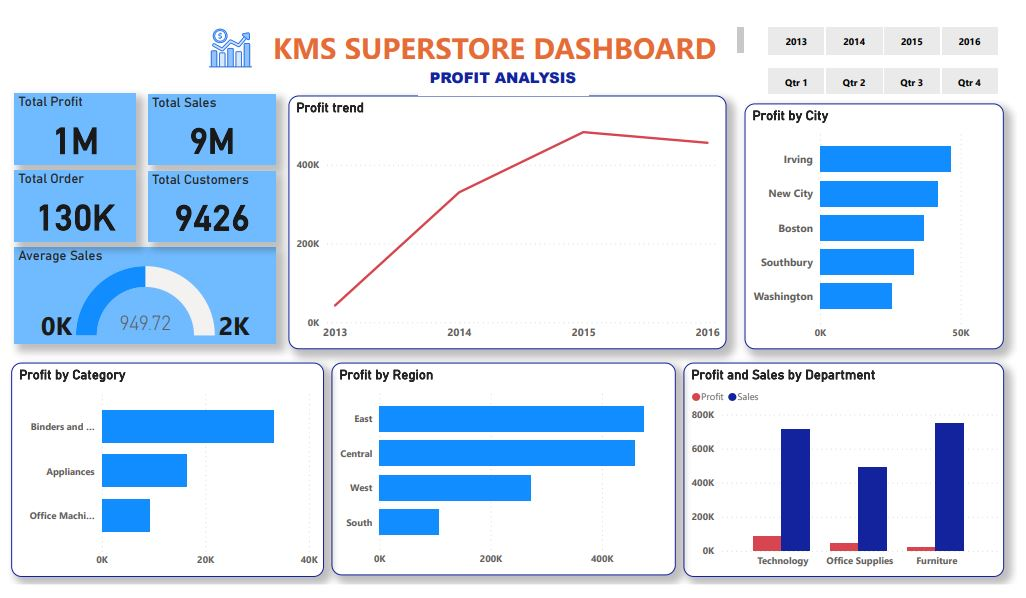

Layout of this report page (visuals, bound fields, positions):
{"tool":"powerbi","page":{"name":"Profit Analysis","canvas":[1280,720],"ordinal":0},"visuals":[{"type":"card","title":"Total  Sales","fields":{"Values":["Sum(Store.Sales)"]},"box":[176.8,97.7,162.4,89.1],"z":0},{"type":"card","title":"Total Profit","fields":{"Values":["Sum(Store.Profit)"]},"box":[7.2,96.3,153.8,90.5],"z":1000},{"type":"clusteredColumnChart","fields":{"Y":["Sum(Store.Profit)","Sum(Store.Sales)"],"Category":["Store.Department"]},"box":[856.7,438.4,406.5,272.1],"z":2000},{"type":"clusteredBarChart","fields":{"Category":["Store.City"],"Y":["Sum(Store.Profit)"]},"box":[934,109.2,329.2,312.4],"z":3000},{"type":"clusteredBarChart","fields":{"Y":["Sum(Store.Profit)"],"Category":["Store.Region"]},"box":[409.1,439,437.2,270.4],"z":4000},{"type":"gauge","title":"Average Sales","fields":{"Y":["Avg(Store.Sales)"]},"box":[7.2,291.7,332,122.2],"z":5000},{"type":"textbox","box":[303.2,7.2,635.2,50.3],"z":6000},{"type":"card","title":"Total Customers","fields":{"Values":["CountNonNull(Store.Customer ID)"]},"box":[176.8,195.4,162.4,89.1],"z":7000},{"type":"card","title":"Total Order","fields":{"Values":["Sum(Store.Order Quantity)"]},"box":[7.2,194,153.8,90.5],"z":8000},{"type":"image","box":[241.4,7.2,77.6,63.2],"z":9000},{"type":"slicer","fields":{"Values":["Store.Order Date.Variation.Date Hierarchy.Year"]},"box":[939,5,341,48.7],"z":10000},{"type":"lineChart","title":"Profit trend","fields":{"Y":["Sum(Store.Profit)"],"Category":["Store.Order Date.Variation.Date Hierarchy.Year"]},"box":[355,99.2,556.2,321.9],"z":11000},{"type":"clusteredBarChart","fields":{"Y":["Sum(Store.Profit)"],"Category":["Store.Category"]},"box":[2.9,438.3,396.6,271.6],"z":12000},{"type":"slicer","fields":{"Values":["Store.Order Date.Variation.Date Hierarchy.Quarter"]},"box":[939,57.1,341,47],"z":13000},{"type":"textbox","box":[518.8,57.5,217,41.7],"z":14000}]}

Visuals, with their boxes on the page's 1280x720 design canvas (x1, y1, x2, y2). These are canvas units, not pixel positions in the 1026x598 screenshot, which may show the page scaled, cropped or inside an application window:
"Total  Sales" card: (177,98,339,187)
"Total Profit" card: (7,96,161,187)
clusteredColumnChart - Sum(Store.Profit) x Sum(Store.Sales): (857,438,1263,710)
clusteredBarChart - Store.City x Sum(Store.Profit): (934,109,1263,422)
clusteredBarChart - Sum(Store.Profit) x Store.Region: (409,439,846,709)
"Average Sales" gauge: (7,292,339,414)
textbox: (303,7,938,58)
"Total Customers" card: (177,195,339,284)
"Total Order" card: (7,194,161,284)
image: (241,7,319,70)
slicer - Store.Order Date.Variation.Date Hierarchy.Year: (939,5,1280,54)
"Profit trend" lineChart: (355,99,911,421)
clusteredBarChart - Sum(Store.Profit) x Store.Category: (3,438,400,710)
slicer - Store.Order Date.Variation.Date Hierarchy.Quarter: (939,57,1280,104)
textbox: (519,58,736,99)
